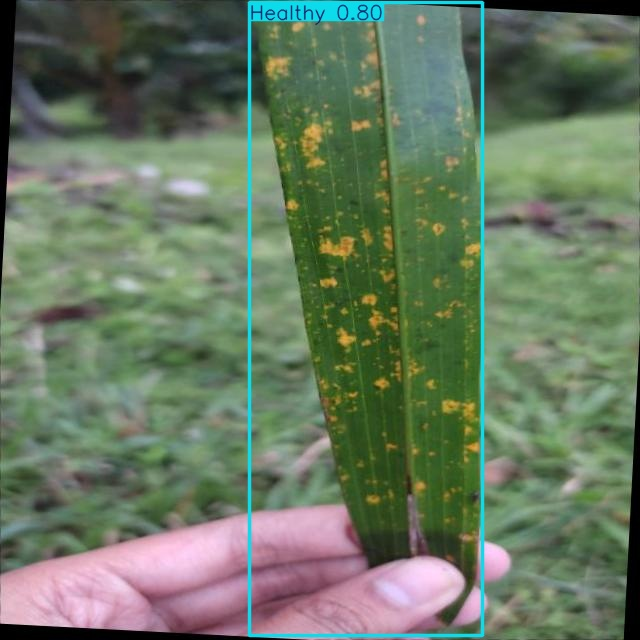Healthy: (250, 3, 482, 636)
